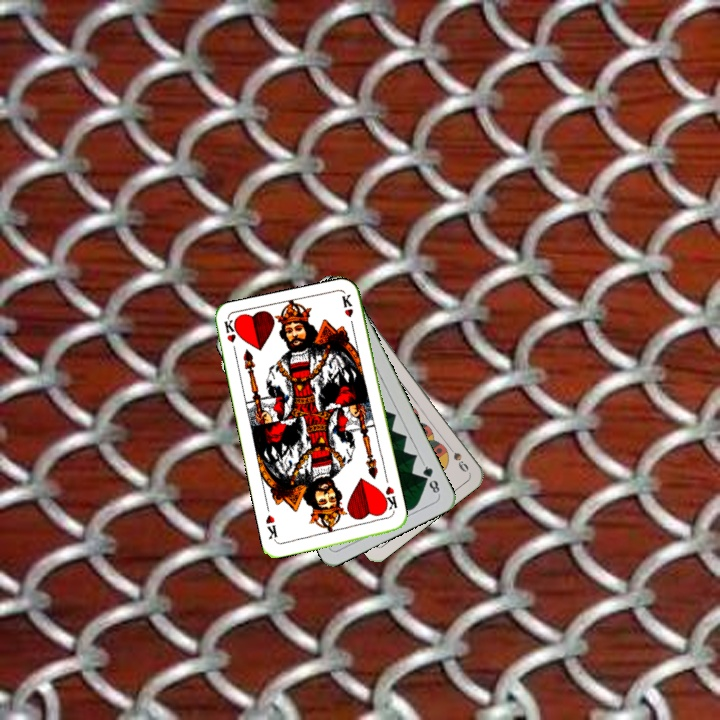G8: (418, 459, 442, 497)
HK: (220, 316, 241, 357), (377, 482, 400, 517)
S9: (443, 439, 471, 475)
